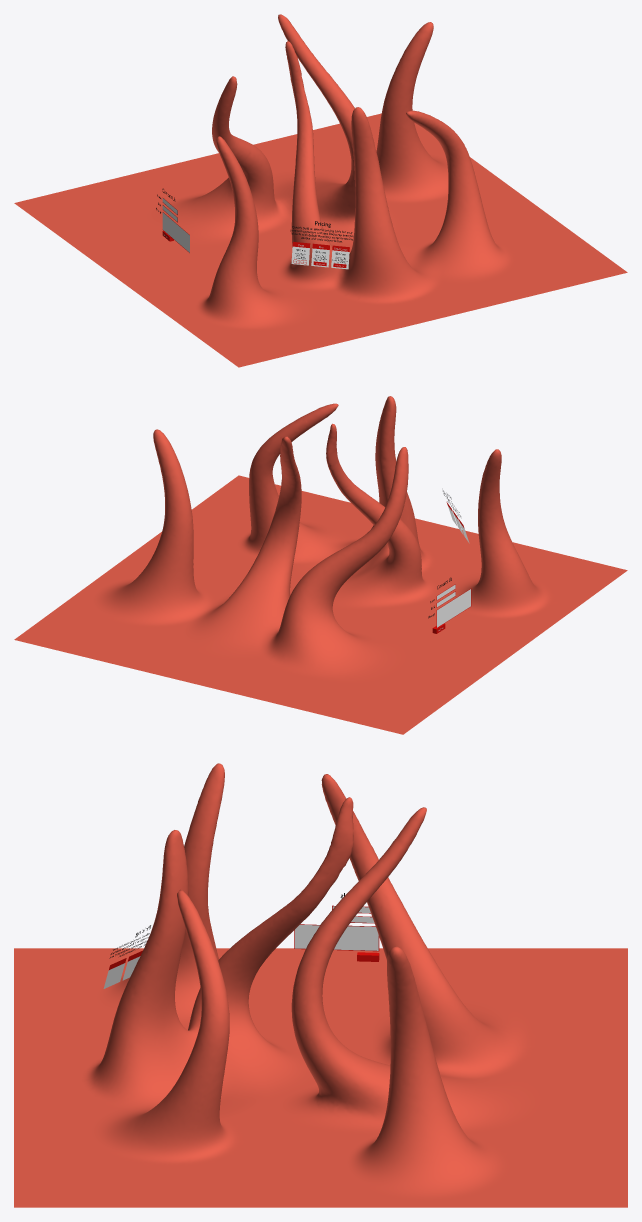
The model's file is webscroll.glb.
The picture shows the model from 3 angles, top to bottom: view 1: azimuth 30°, elevation 25°; view 2: azimuth 150°, elevation 25°; view 3: azimuth 270°, elevation 25°; orthographic projection. The views are drawn at different scales.
Parts seen in each view (by area): view 1: Plane.001, Plane.007; view 2: Plane.001, Plane.007; view 3: Plane.001, Plane.007.
Part boxes in pixels (bbox=[...]): Plane.001: bbox=[14, 14, 627, 367]; Plane.007: bbox=[162, 212, 189, 252]; Plane.001: bbox=[14, 396, 627, 734]; Plane.007: bbox=[436, 588, 471, 627]; Plane.001: bbox=[14, 763, 627, 1207]; Plane.007: bbox=[294, 924, 379, 951].
Size of what is drawn, in the model's own units: 8 by 3.9 by 8.
